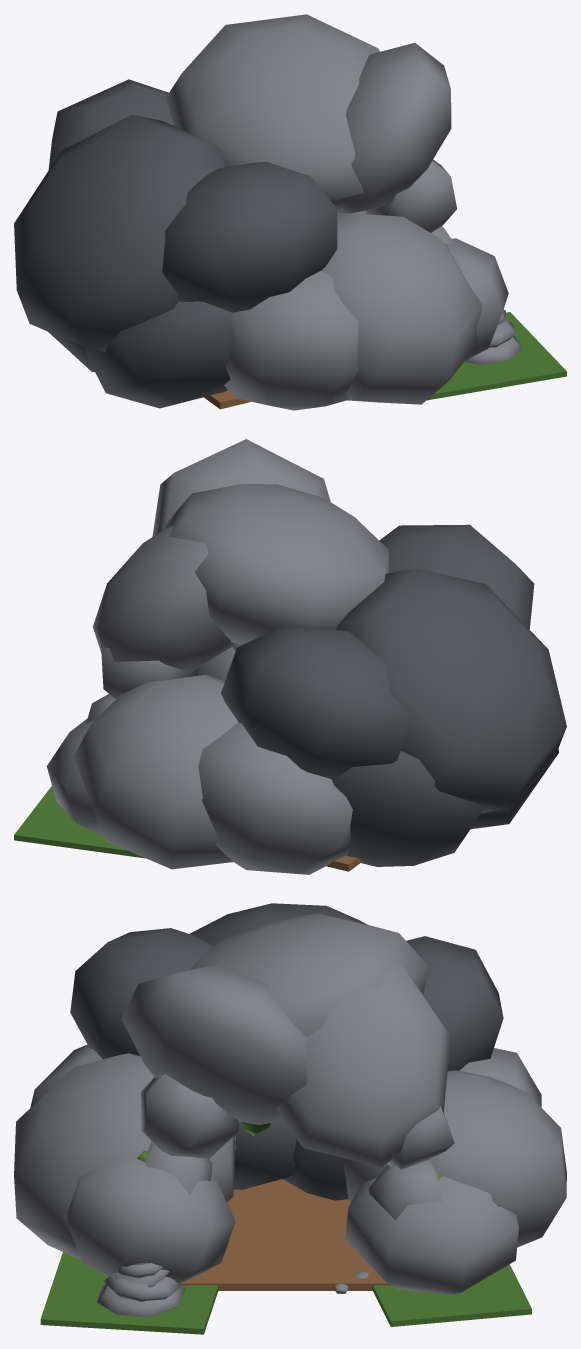
The model's file is cave-mouth-dry.glb.
The picture shows the model from 3 angles, top to bottom: view 1: azimuth 30°, elevation 25°; view 2: azimuth 150°, elevation 25°; view 3: azimuth 270°, elevation 25°; orthographic projection. The views are drawn at different scales.
Parts seen in each view (by area): view 1: Mesh_Rock_B3, Mesh_Rock_T3, Mesh_Rock_R2, Mesh_Rock_B5, Mesh_Rock_R3, Mesh_Rock_T2, Mesh_Rock_B2, Mesh_Rock_B4, Mesh_GrassBaseR, Mesh_Rock_R1, Mesh_Wedge_R2, Mesh_Cairn_S1; view 2: Mesh_Rock_B3, Mesh_Rock_T3, Mesh_Rock_L2, Mesh_Rock_B4, Mesh_Rock_L3, Mesh_Rock_T1, Mesh_Rock_B1, Mesh_Rock_B5, Mesh_Rock_T2, Mesh_GrassBaseL, Mesh_Rock_L1, Mesh_Wedge_L2 (+2 smaller); view 3: Mesh_Rock_T1, Mesh_Rock_T2, Mesh_Rock_R2, Mesh_Rock_L2, Mesh_Rock_R1, Mesh_Rock_T3, Mesh_Rock_L1, Mesh_DirtFloor, Mesh_Rock_B5, Mesh_Rock_B4, Mesh_GrassBaseR, Mesh_Wedge_R2 (+11 smaller).
Boxes of the visible parts, bbox=[...] form: Mesh_Rock_B3: bbox=[14, 114, 225, 351]; Mesh_Rock_T3: bbox=[165, 14, 380, 212]; Mesh_Rock_R2: bbox=[321, 213, 481, 404]; Mesh_Rock_B5: bbox=[162, 161, 337, 312]; Mesh_Rock_R3: bbox=[224, 271, 358, 410]; Mesh_Rock_T2: bbox=[337, 42, 451, 213]; Mesh_Rock_B2: bbox=[84, 301, 234, 408]; Mesh_Rock_B4: bbox=[48, 79, 173, 169]; Mesh_GrassBaseR: bbox=[426, 312, 566, 400]; Mesh_Rock_R1: bbox=[446, 238, 508, 360]; Mesh_Wedge_R2: bbox=[366, 159, 456, 232]; Mesh_Cairn_S1: bbox=[465, 336, 522, 365]; Mesh_Rock_B3: bbox=[336, 568, 566, 813]; Mesh_Rock_T3: bbox=[164, 484, 388, 645]; Mesh_Rock_L2: bbox=[74, 674, 237, 869]; Mesh_Rock_B4: bbox=[221, 625, 409, 779]; Mesh_Rock_L3: bbox=[198, 722, 352, 874]; Mesh_Rock_T1: bbox=[93, 525, 234, 672]; Mesh_Rock_B1: bbox=[331, 751, 484, 866]; Mesh_Rock_B5: bbox=[379, 524, 534, 629]; Mesh_Rock_T2: bbox=[152, 439, 330, 536]; Mesh_GrassBaseL: bbox=[14, 786, 144, 858]; Mesh_Rock_L1: bbox=[46, 718, 103, 835]; Mesh_Wedge_L2: bbox=[101, 643, 198, 698]; Mesh_Rock_T1: bbox=[276, 958, 450, 1167]; Mesh_Rock_T2: bbox=[121, 965, 308, 1124]; Mesh_Rock_R2: bbox=[14, 1053, 235, 1260]; Mesh_Rock_L2: bbox=[343, 1070, 566, 1247]; Mesh_Rock_R1: bbox=[64, 1154, 235, 1284]; Mesh_Rock_T3: bbox=[189, 913, 428, 1036]; Mesh_Rock_L1: bbox=[345, 1176, 518, 1294]; Mesh_DirtFloor: bbox=[179, 1179, 390, 1290]; Mesh_Rock_B5: bbox=[70, 928, 213, 1059]; Mesh_Rock_B4: bbox=[406, 936, 503, 1071]; Mesh_GrassBaseR: bbox=[40, 1252, 218, 1334]; Mesh_Wedge_R2: bbox=[141, 1074, 238, 1158].
Size of the model in its own units: 5.36 by 3.63 by 5.36.
2 materials, 2 textured.
